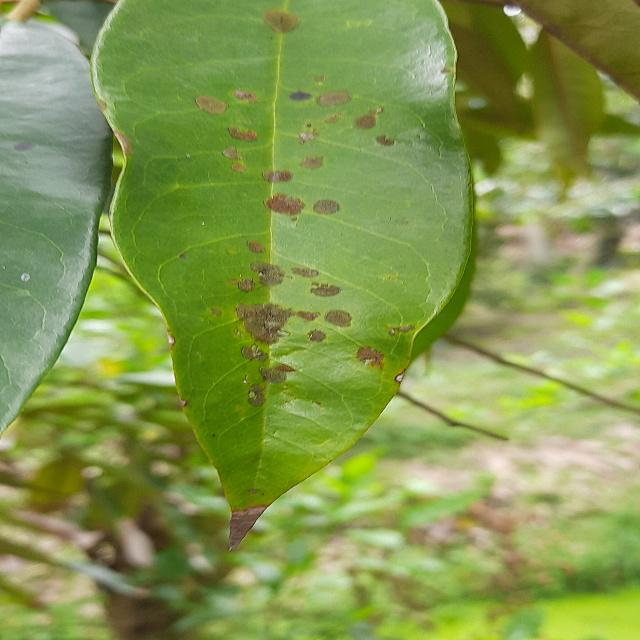Algal Leaf Spot: (83, 0, 485, 566)
